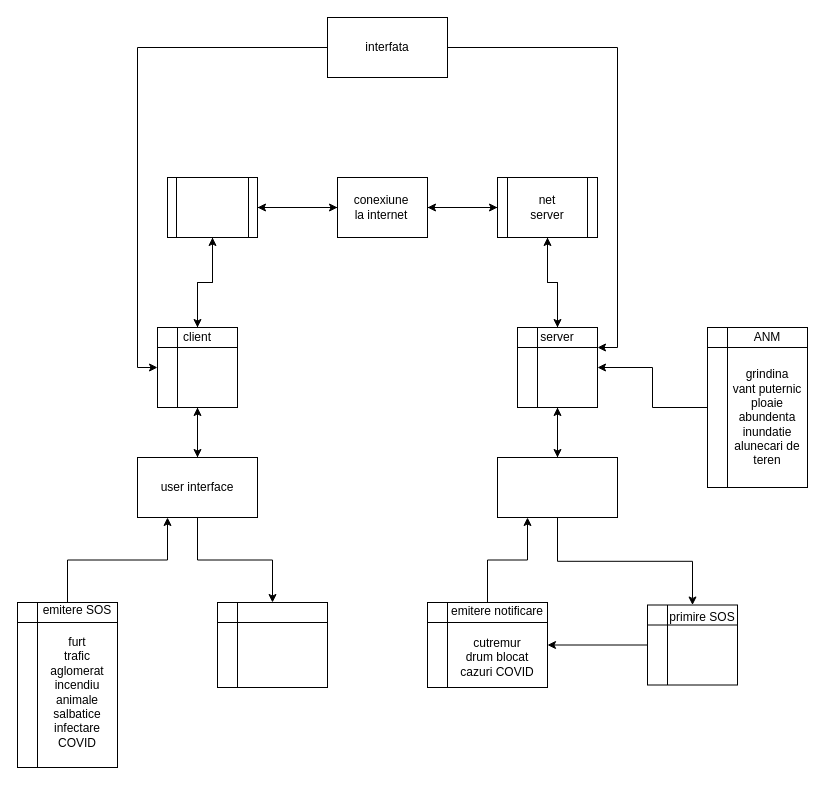
The diagram is 825 pixels wide and 785 high, and some of its shapes have lost their labels. Each missing label, with the centre of its shape:
net client: (x=212, y=207)
primire notificare: (x=272, y=645)
server interface: (x=557, y=487)
